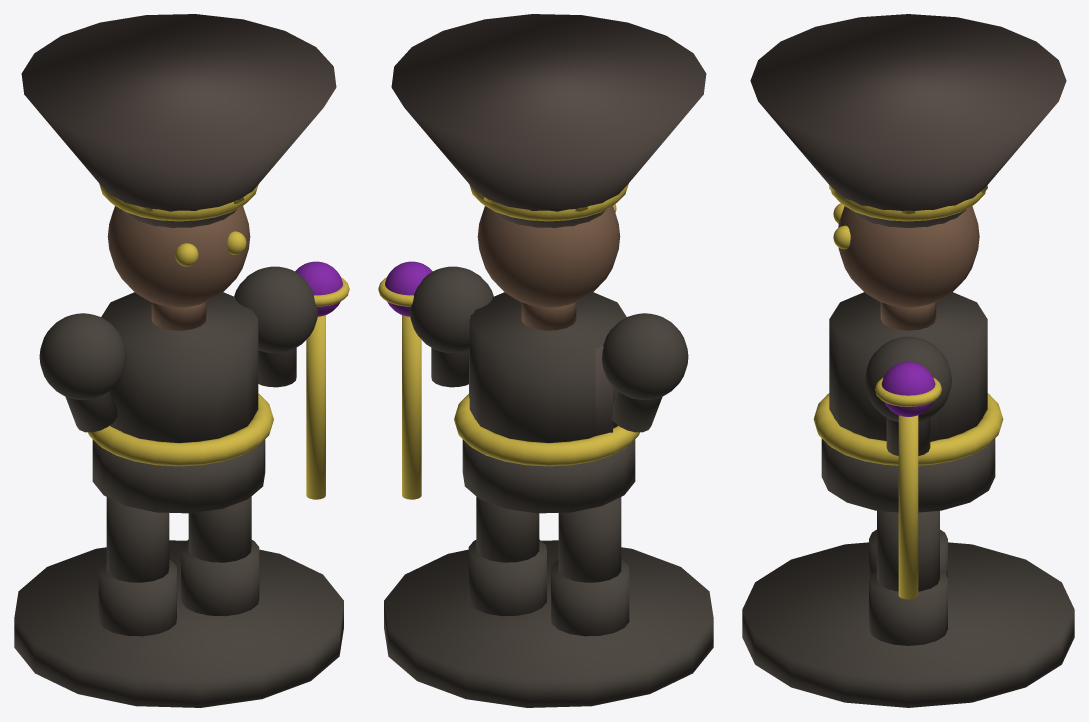
File: Haud.glb
The picture shows the model from 3 angles, left to right: view 1: azimuth 30°, elevation 25°; view 2: azimuth 150°, elevation 25°; view 3: azimuth 270°, elevation 25°; orthographic projection.
Visible parts, largest first — view 1: B_Queen; view 2: B_Queen; view 3: B_Queen.
Part boxes in pixels (left/top/right/bottom): B_Queen: left=14, top=14, right=349, bottom=707; B_Queen: left=378, top=14, right=713, bottom=707; B_Queen: left=742, top=14, right=1074, bottom=707.
Bounding box in the file's own units: 0.905 × 1.55 × 0.84.
